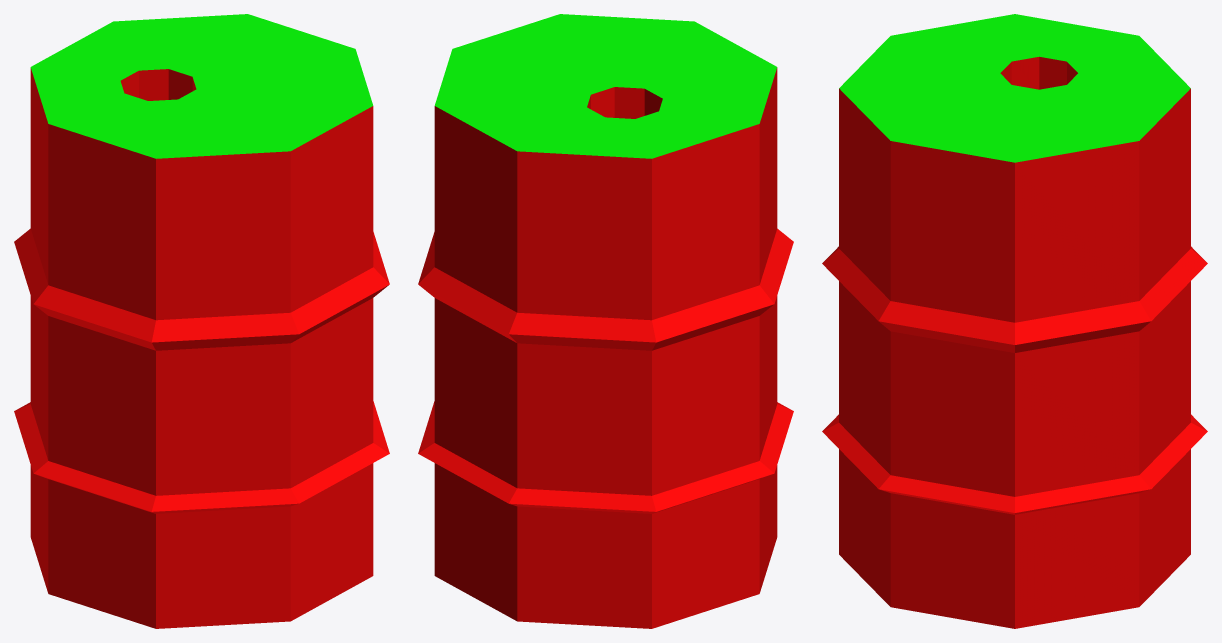
File: barrell-00.FBX
The picture shows the model from 3 angles, left to right: view 1: azimuth 30°, elevation 25°; view 2: azimuth 150°, elevation 25°; view 3: azimuth 270°, elevation 25°; orthographic projection.
Visible parts, largest first — view 1: Barrell; view 2: Barrell; view 3: Barrell.
Boxes of the visible parts, box(x1,y1,x2,y2) form: Barrell: box(14, 14, 389, 628); Barrell: box(418, 14, 793, 628); Barrell: box(822, 14, 1207, 628).
Size of the model in its own units: 5.23 by 6.98 by 5.23.
